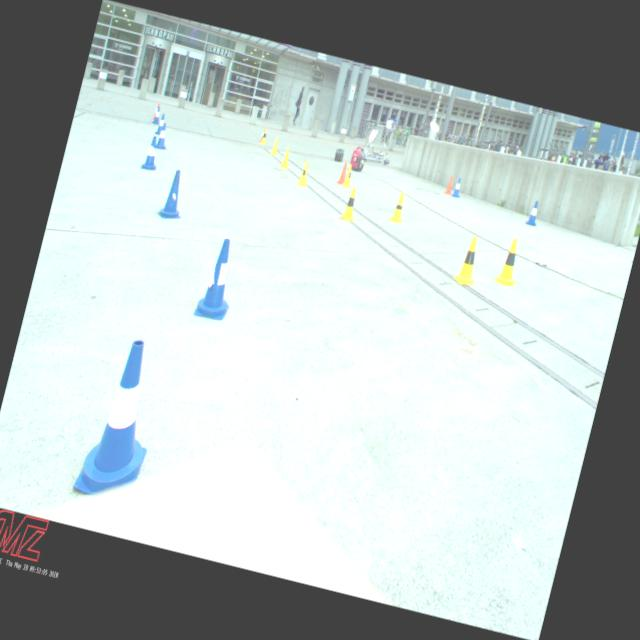blue_cone: (70, 332, 172, 502), (193, 236, 244, 322), (156, 166, 190, 220), (140, 134, 164, 172), (153, 122, 172, 150), (524, 198, 543, 226), (154, 112, 168, 135), (451, 176, 464, 198), (151, 106, 163, 124)
orange_cone: (336, 160, 350, 185), (442, 174, 456, 195), (151, 103, 163, 121), (258, 126, 268, 142)
yellow_cone: (492, 235, 528, 288), (452, 233, 486, 287), (339, 185, 362, 222), (388, 189, 410, 224), (295, 160, 313, 188), (341, 162, 356, 188), (278, 146, 293, 170), (269, 136, 281, 155), (259, 128, 270, 144)
